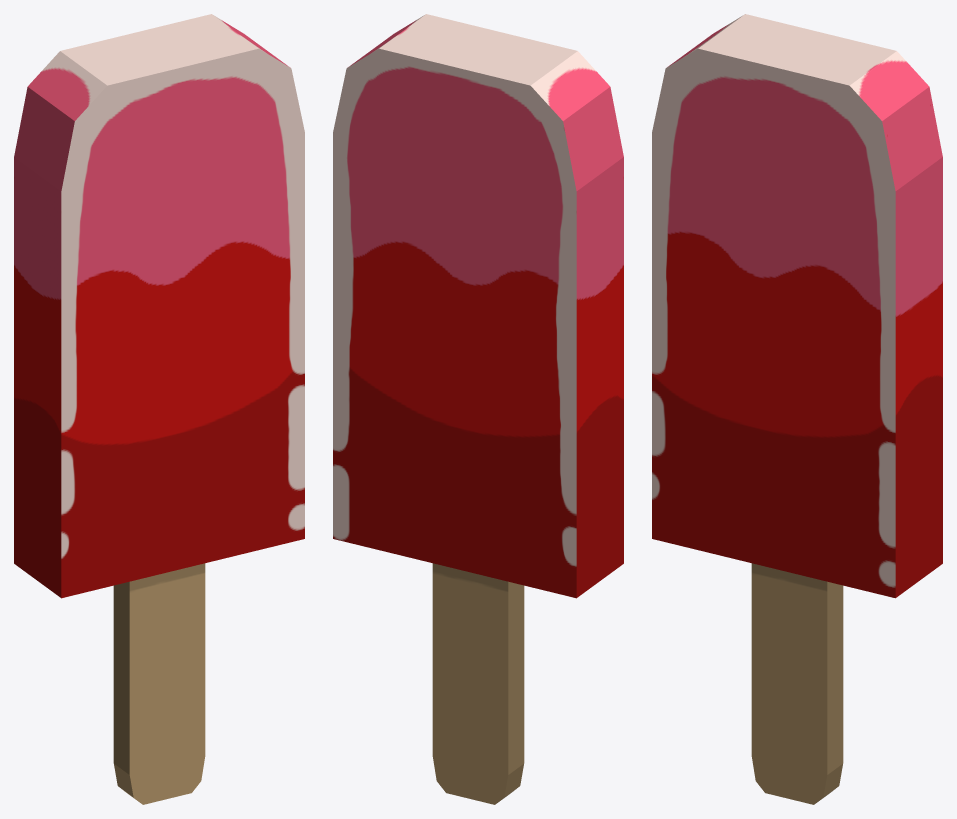
Rendered from Paleta.glb.
3 views of the same model, side by side, from view 1: azimuth 30°, elevation 25°; view 2: azimuth 150°, elevation 25°; view 3: azimuth 330°, elevation 25° (orthographic).
Parts seen in each view (by area): view 1: Paleta; view 2: Paleta; view 3: Paleta.
Boxes of the visible parts, left/top/right/bottom form: Paleta: left=14, top=14, right=304, bottom=804; Paleta: left=333, top=14, right=623, bottom=804; Paleta: left=652, top=14, right=942, bottom=804.
Bounding box in the file's own units: 8.1 × 23.63 × 2.73.
1 material, 1 textured.
